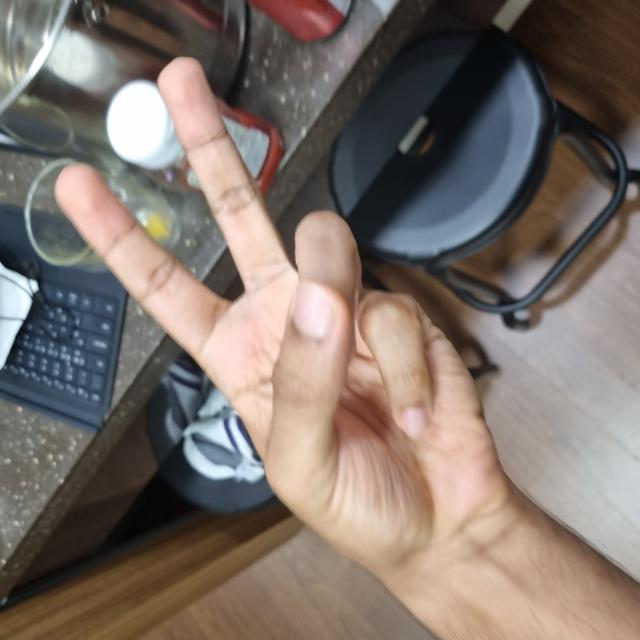Scissors: (57, 54, 579, 506)
